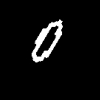chain: (32, 20, 62, 61)
